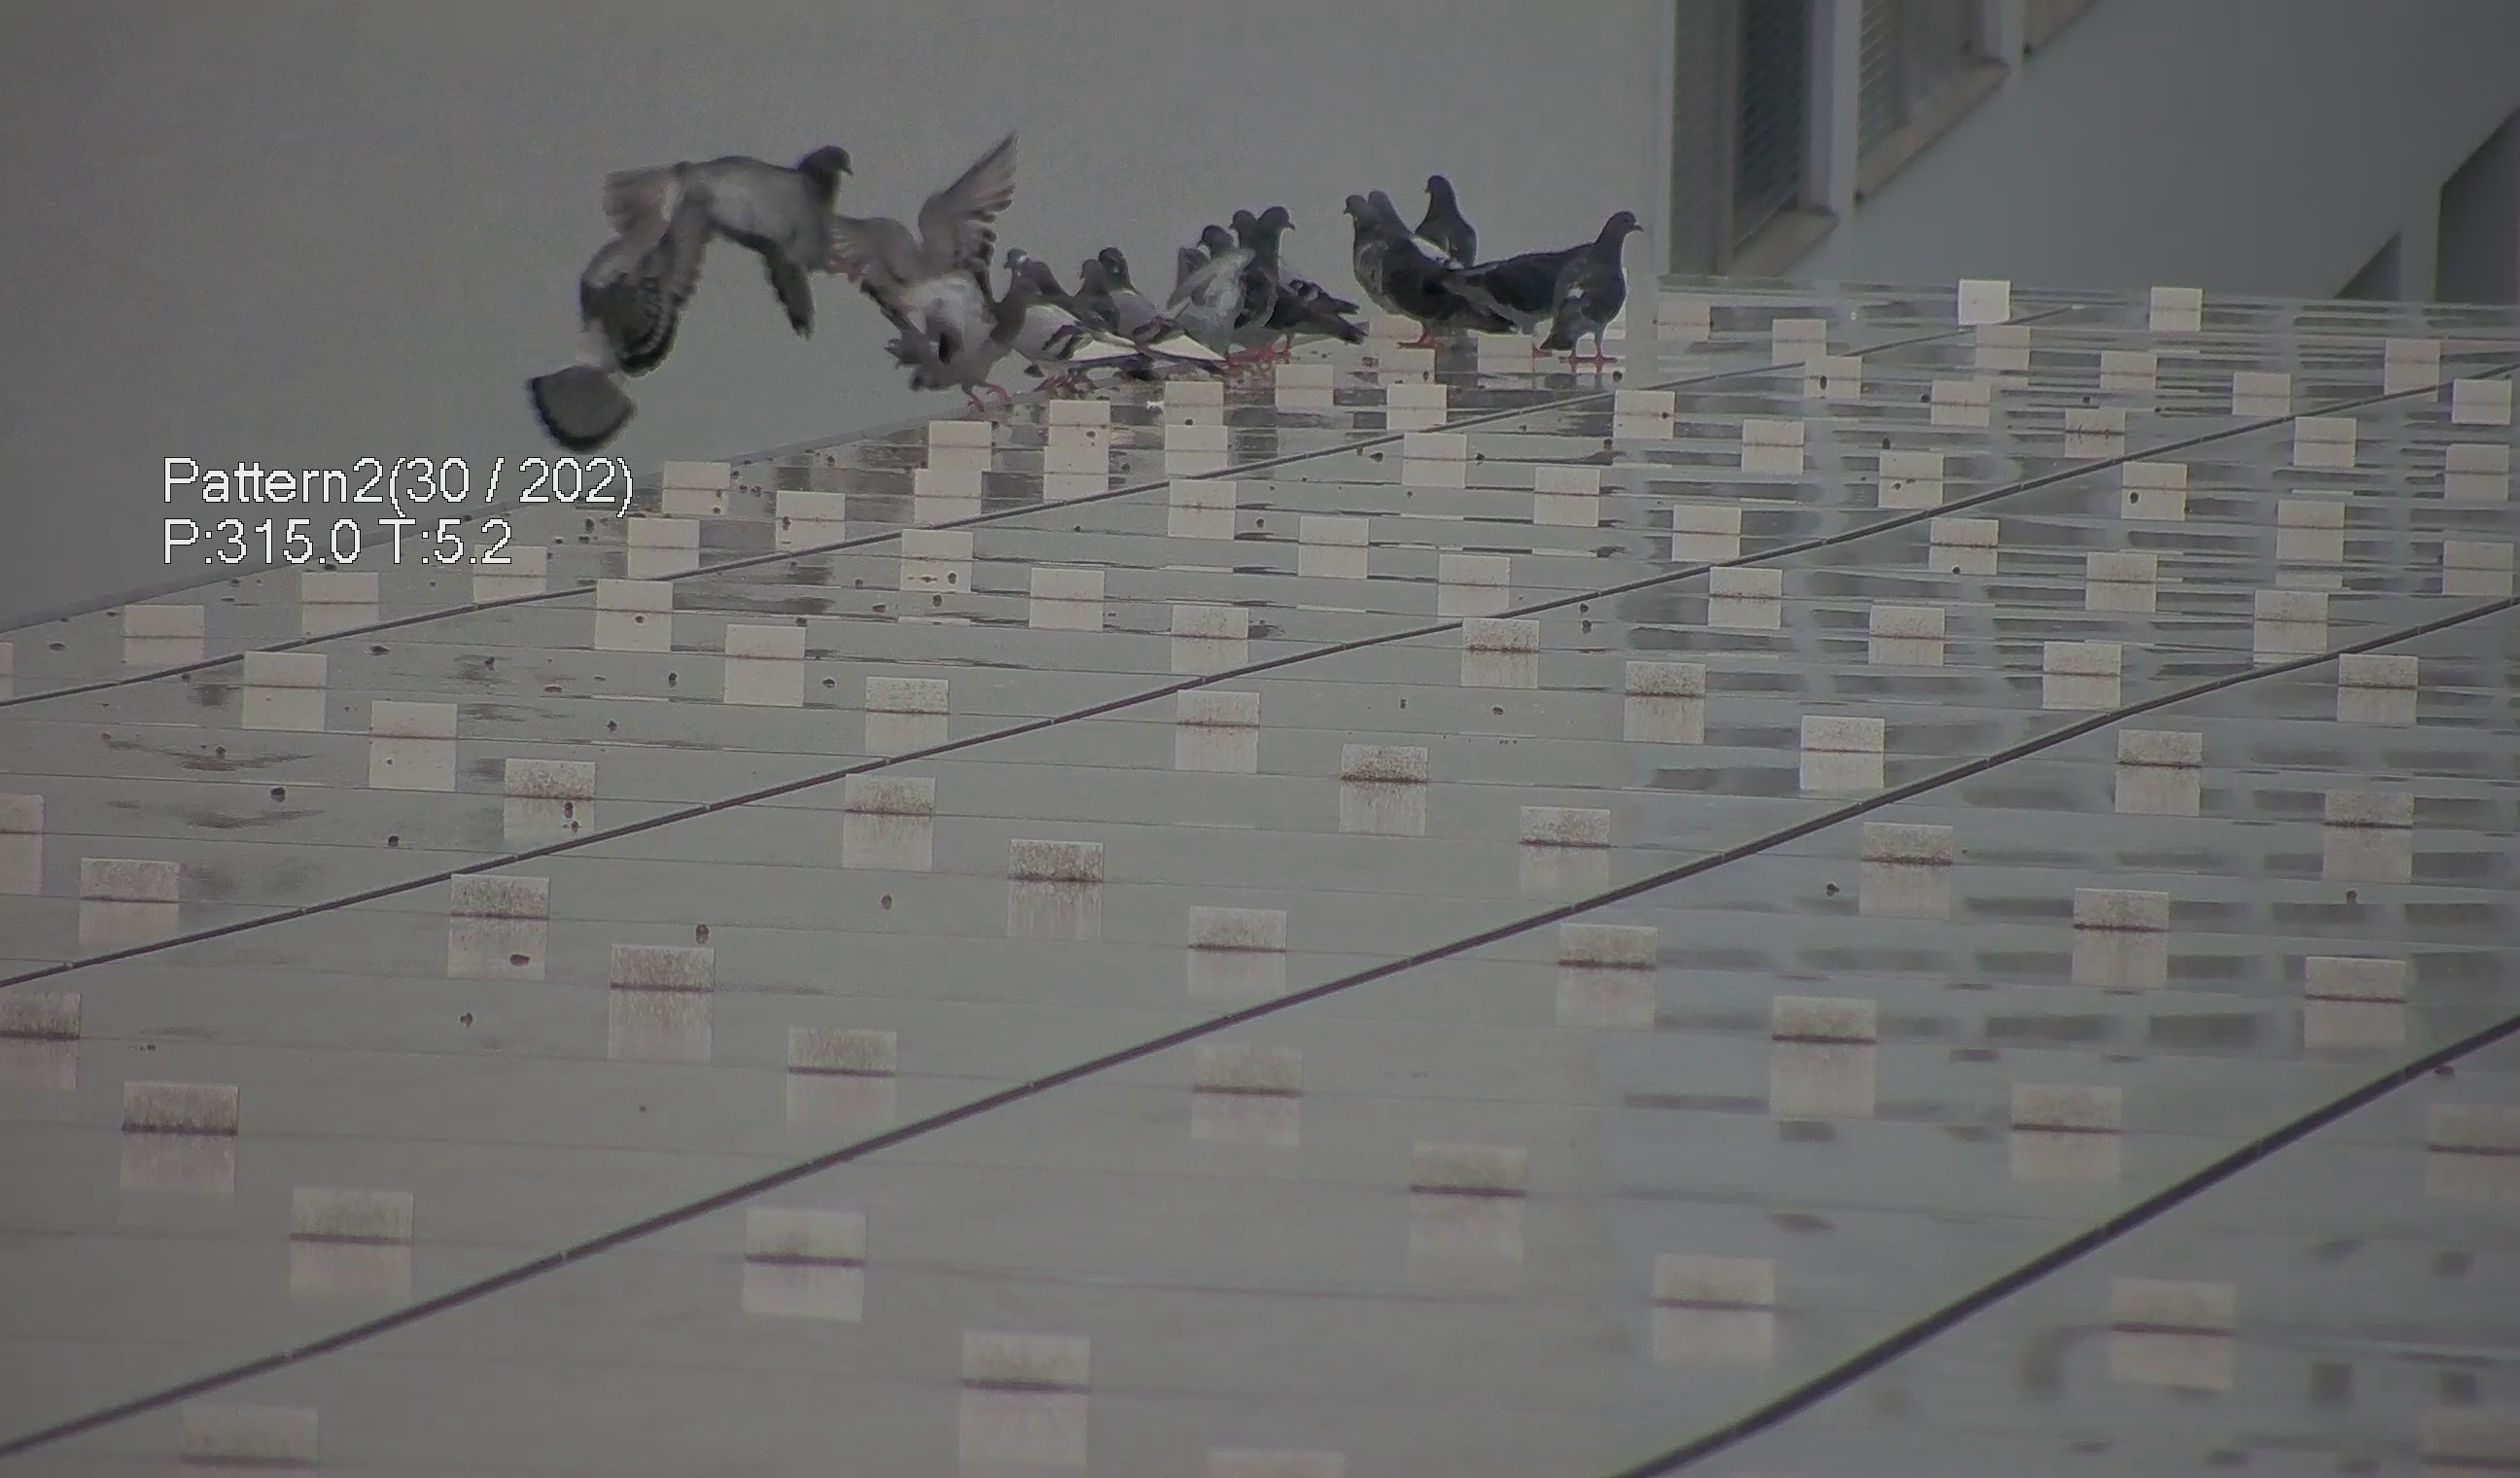Pigeon: (572, 128, 842, 389), (1530, 197, 1662, 380), (1171, 194, 1305, 355), (1338, 188, 1474, 338), (1001, 245, 1129, 396), (1078, 243, 1162, 340), (1419, 178, 1482, 257), (1194, 195, 1261, 269)
